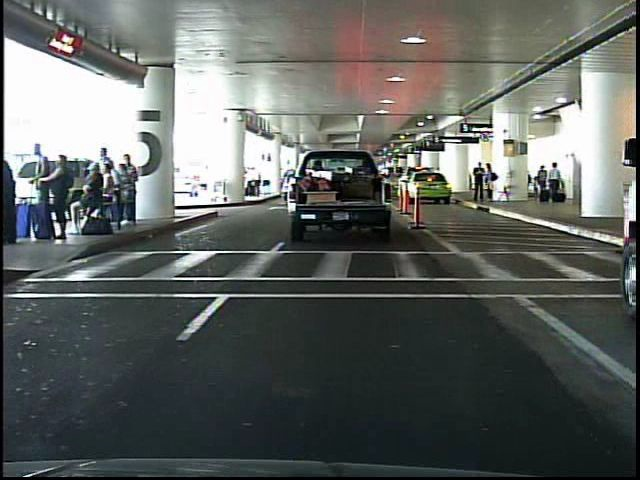person: (472, 159, 487, 206), (482, 163, 498, 204)
